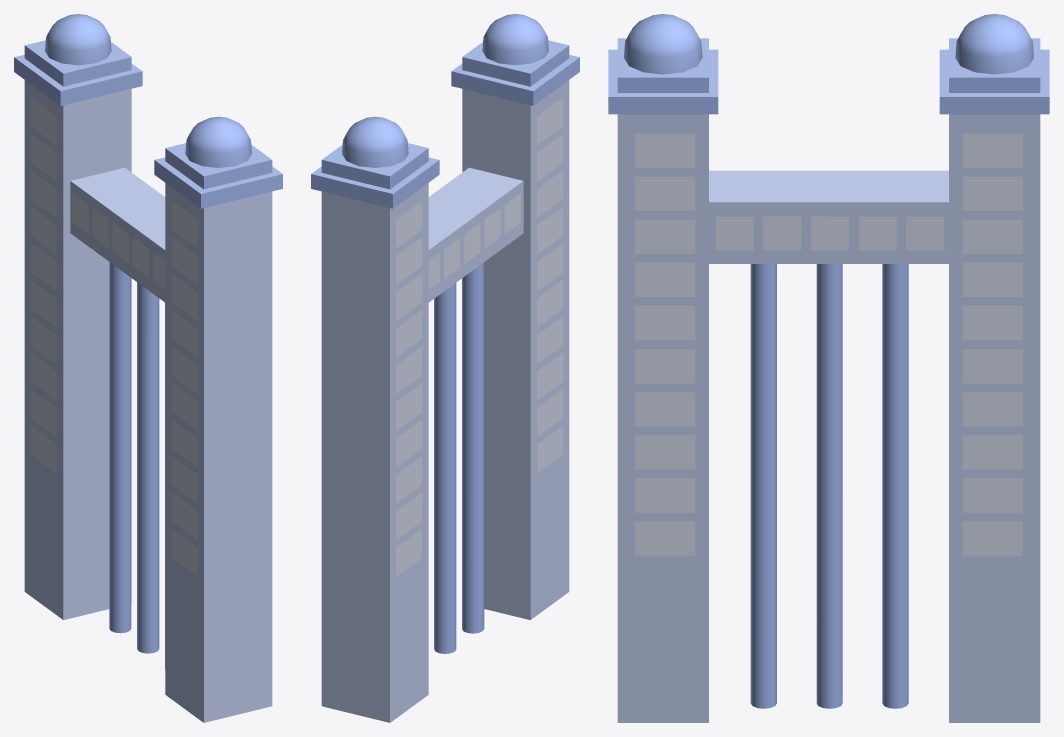
Rendered from house_2_Xlarge.fbx.fbx.
3 views of the same model, side by side, from view 1: azimuth 30°, elevation 25°; view 2: azimuth 150°, elevation 25°; view 3: azimuth 270°, elevation 25° (orthographic). The views are drawn at different scales.
Visible parts, largest first — view 1: house_2_Xlarge; view 2: house_2_Xlarge; view 3: house_2_Xlarge.
Part boxes in pixels (<box>): house_2_Xlarge: <box>14,14,282,722</box>; house_2_Xlarge: <box>311,14,579,722</box>; house_2_Xlarge: <box>608,14,1049,722</box>.
Size of the model in its own units: 27.65 by 187 by 109.
